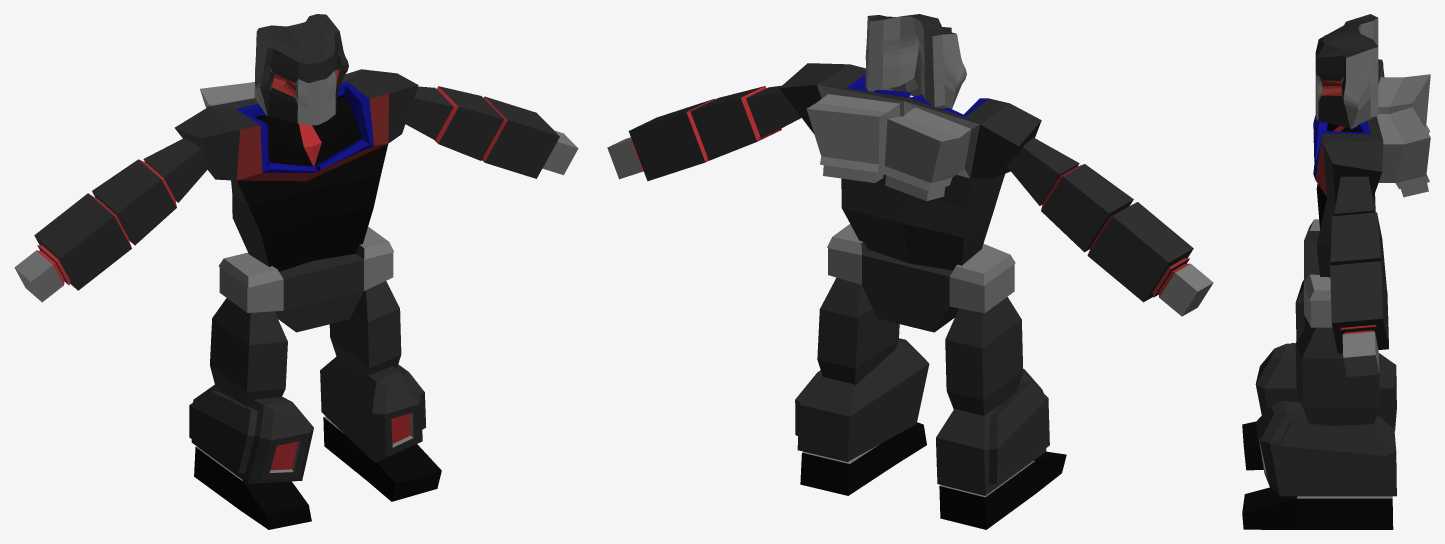
Rendered from Enemigo robot terminado.fbx.
3 views of the same model, side by side, from view 1: azimuth 30°, elevation 25°; view 2: azimuth 150°, elevation 25°; view 3: azimuth 270°, elevation 25° (orthographic). The views are drawn at different scales.
Visible parts, largest first — view 1: Cube; view 2: Cube; view 3: Cube.
Boxes of the visible parts, x1=… form: Cube: x1=14, y1=14, x2=578, y2=529; Cube: x1=607, y1=14, x2=1213, y2=529; Cube: x1=1242, y1=14, x2=1430, y2=529.
Bounding box in the file's own units: 313 × 244 × 90.
